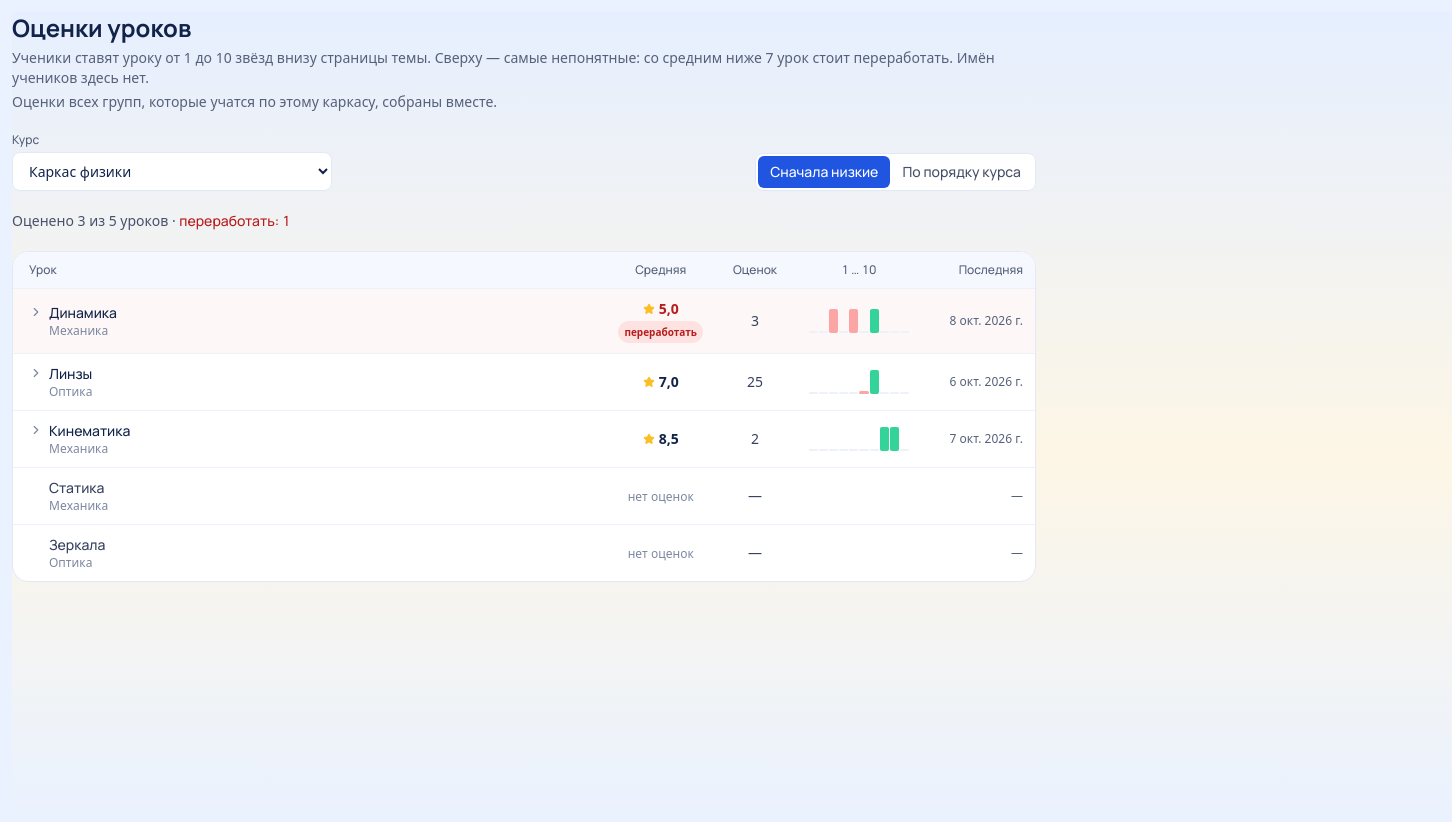
Test case: TopicRatingsPage (§271) › клик по уроку раскрывает распределение 1..10
Expected: the number of rows with test id "topic-ratings-row" is 5, [13,288,1035,354]; [13,354,1035,410]; [13,410,1035,468]; [13,468,1035,524]; [13,524,1035,581]
Click the button "Динамика Механика" at (83, 312), box [29,303,590,339]
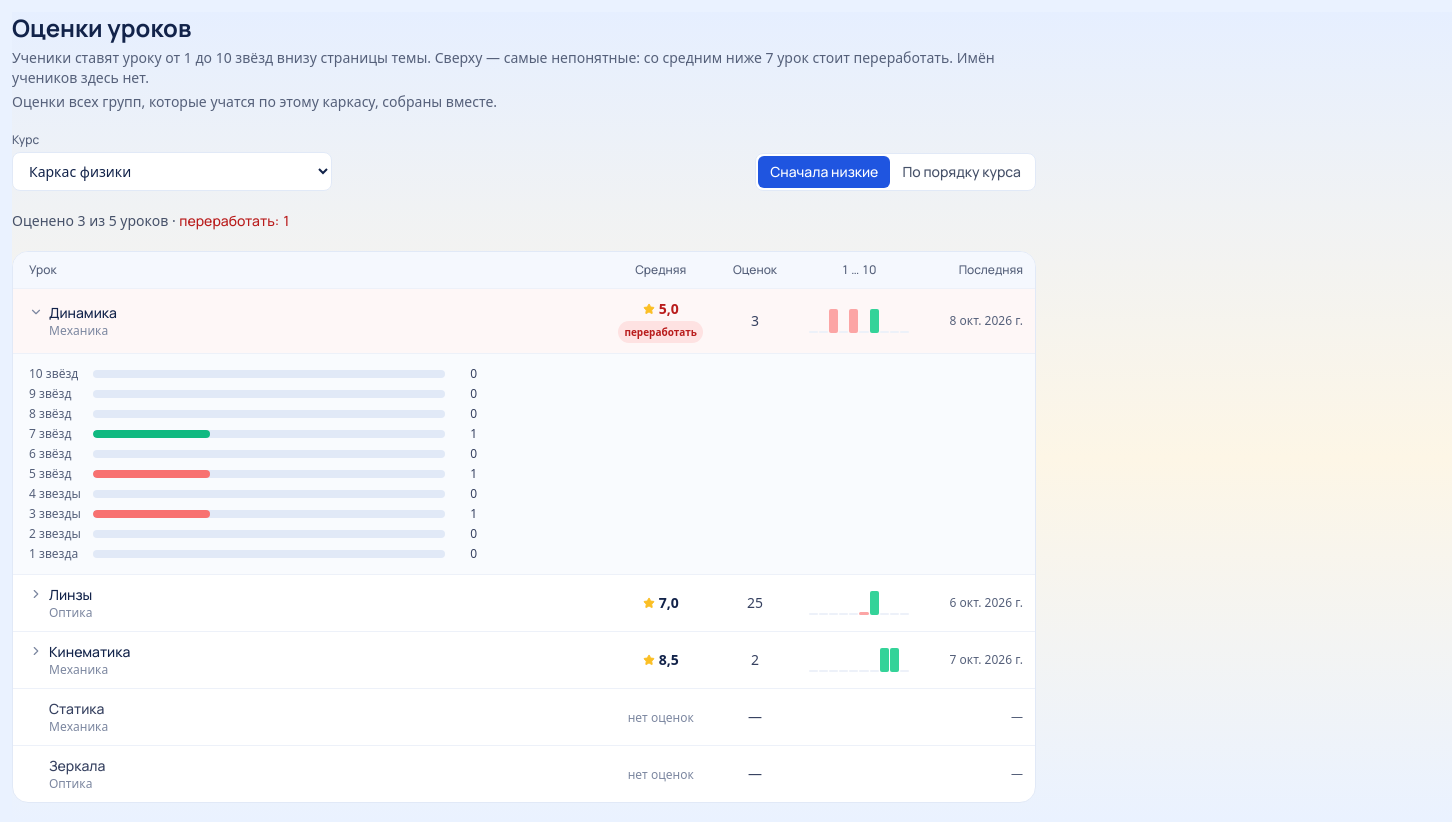
Now the number of list items is 10
